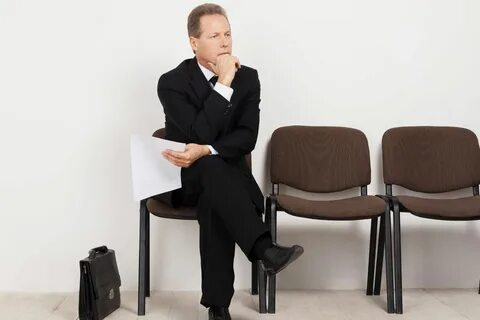awake: (151, 2, 306, 320)
